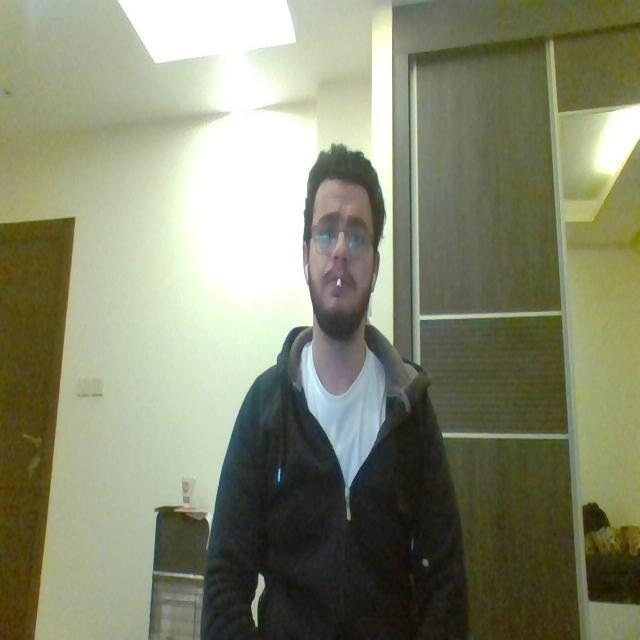smoking: (312, 270, 365, 295)
